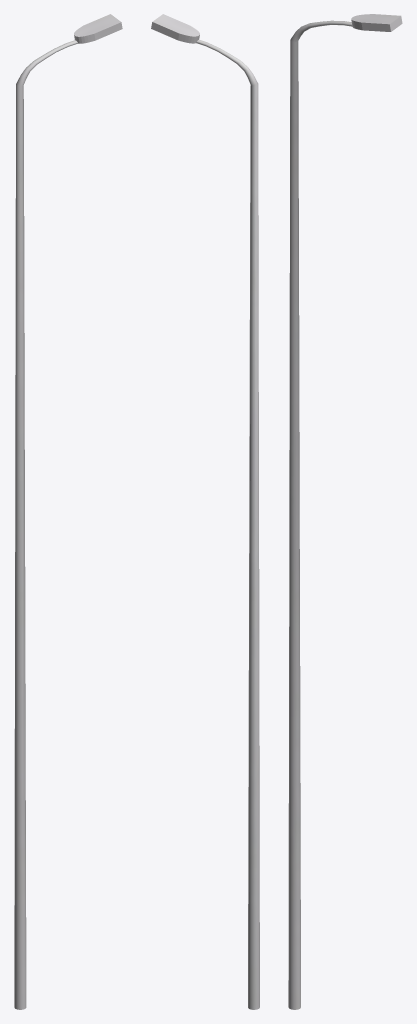
The model's file is ludeng.gltf.
3 views of the same model, side by side, from view 1: azimuth 30°, elevation 25°; view 2: azimuth 150°, elevation 25°; view 3: azimuth 330°, elevation 25° (orthographic). The views are drawn at different scales.
Visible parts, largest first — view 1: ludeng002; view 2: ludeng002; view 3: ludeng002.
Boxes of the visible parts, x1,y1,x2,y2 form: ludeng002: (14,14,122,1009); ludeng002: (151,14,259,1009); ludeng002: (288,14,402,1009).
Size of the model in its own units: 1.21 by 10.9 by 0.226.
1 material, 1 textured.
